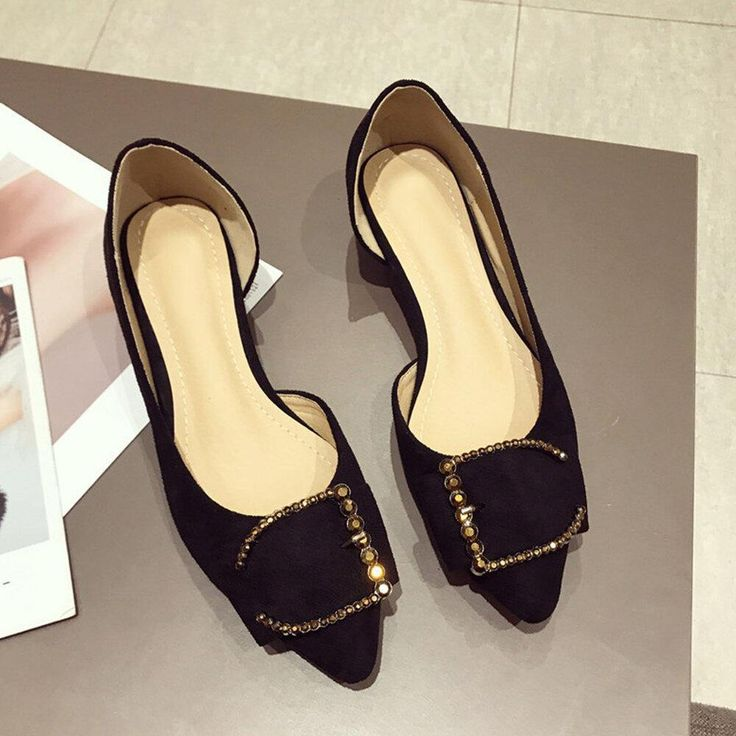gamuza: (102, 78, 591, 686)
